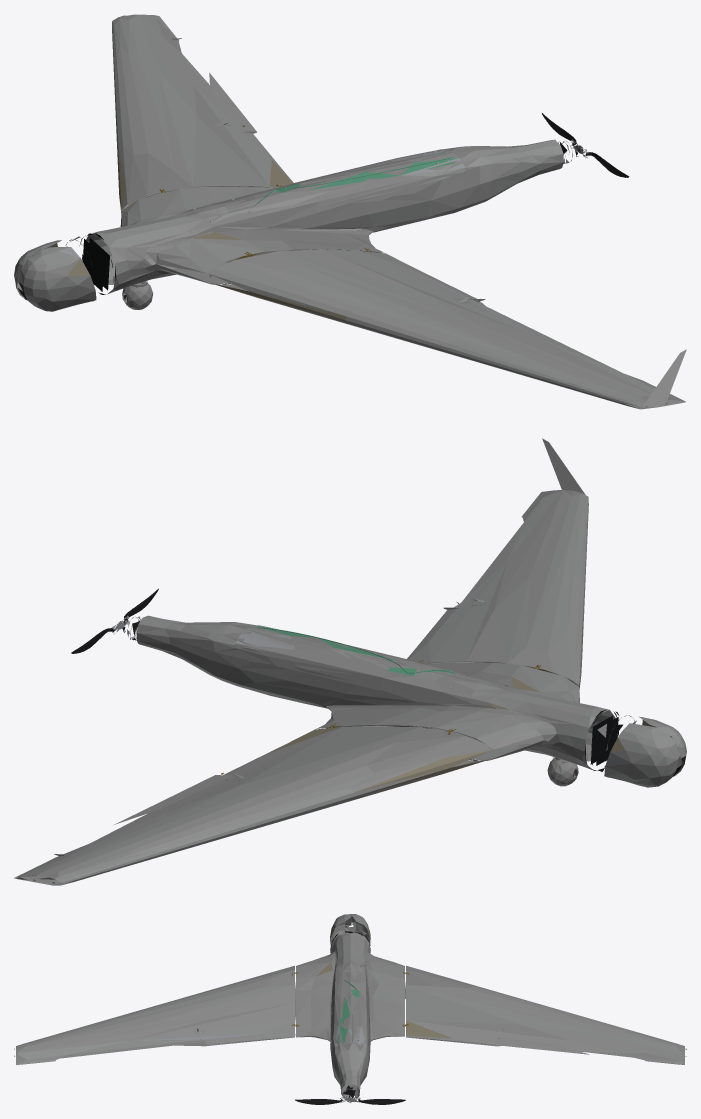
The model's file is shared_scout_drone.obj.
3 renders of one model, top to bottom at view 1: azimuth 30°, elevation 25°; view 2: azimuth 150°, elevation 25°; view 3: azimuth 270°, elevation 25°, orthographic. The views are drawn at different scales.
Visible parts, largest first — view 1: shared_scout_drone; view 2: shared_scout_drone; view 3: shared_scout_drone.
Boxes of the visible parts, left/top/right/bottom form: shared_scout_drone: left=14, top=14, right=686, bottom=409; shared_scout_drone: left=14, top=438, right=686, bottom=885; shared_scout_drone: left=14, top=914, right=686, bottom=1104.
Size of the model in its own units: 1.72 by 0.2417 by 2.79.
Materials: 1 (1 with a texture image).
